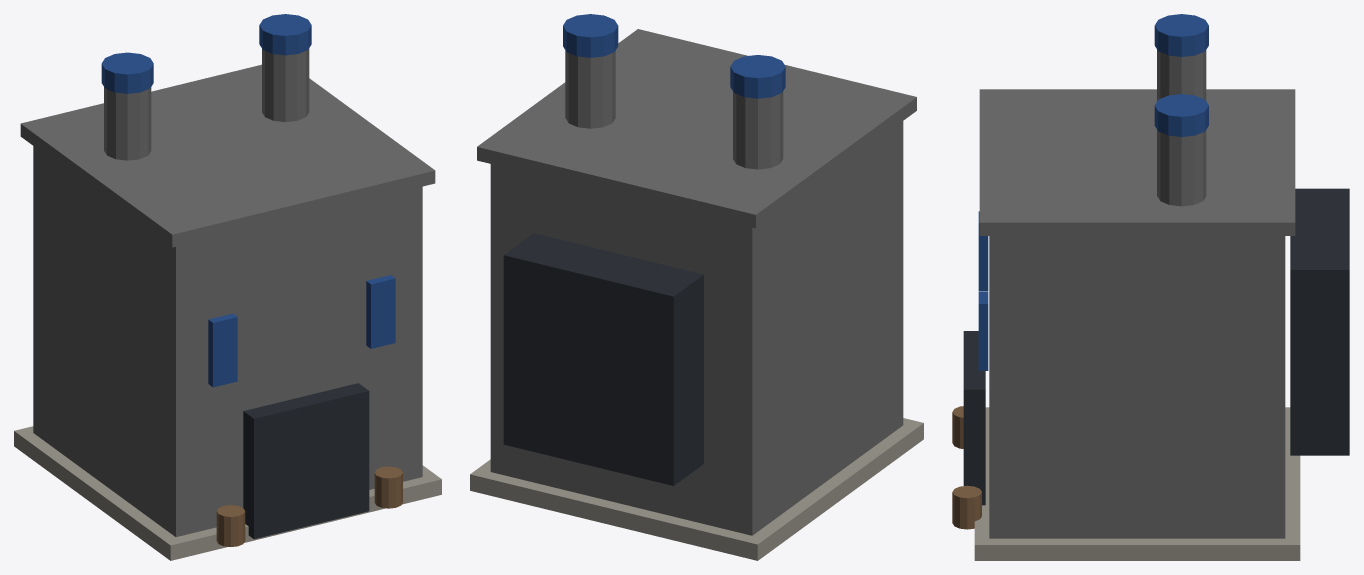
File: bld_industrial_a09.glb
3 views of the same model, side by side, from view 1: azimuth 30°, elevation 25°; view 2: azimuth 150°, elevation 25°; view 3: azimuth 270°, elevation 25° (orthographic). The views are drawn at different scales.
Parts seen in each view (by area): view 1: body; view 2: body; view 3: body.
Part boxes in pixels (x1,y1,x2,y2): body: (14, 14, 441, 560); body: (470, 14, 923, 560); body: (952, 14, 1349, 560).
Size of what is drawn, in the model's own units: 6.6 by 9.55 by 8.05.
